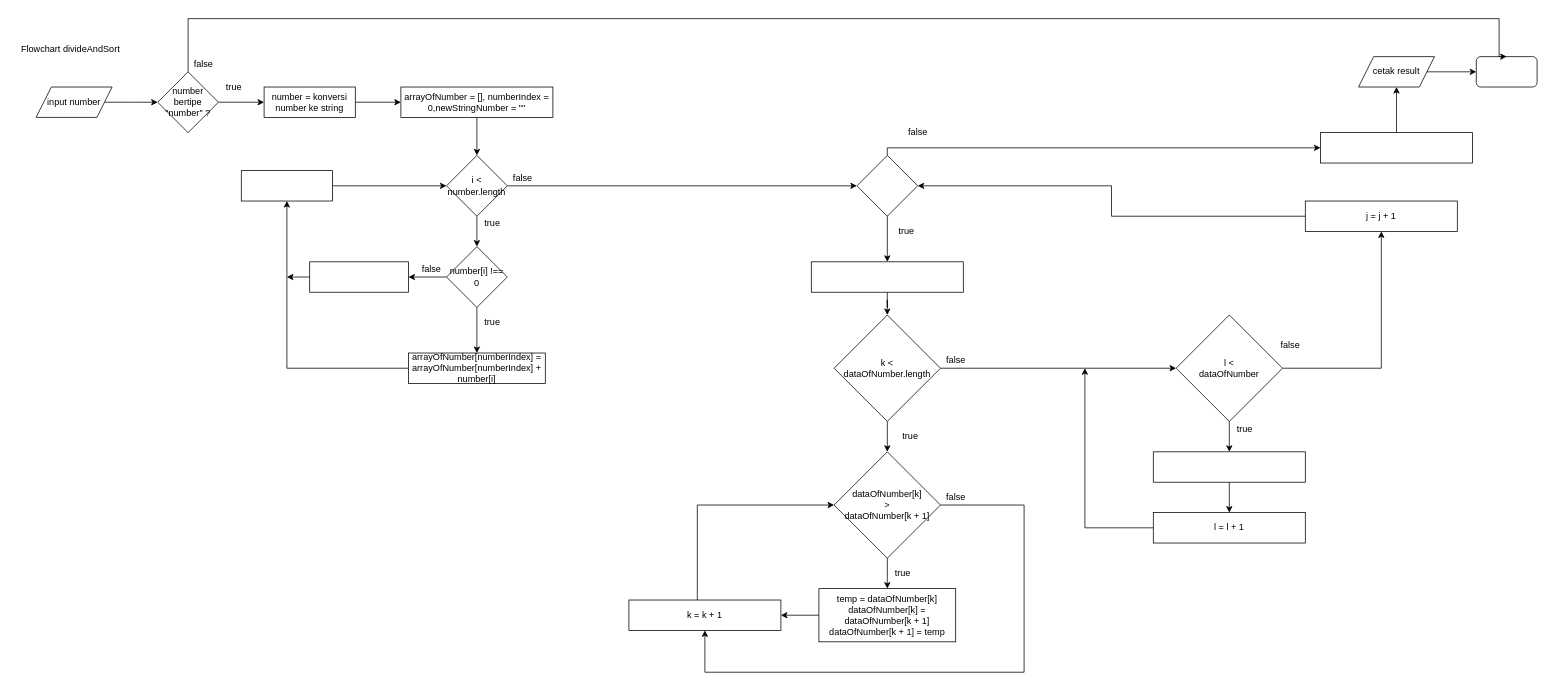
This 1550x692 diagram has some shape labels left out. Here are the shapes that lost their labels. From the top down, the centre of each, then its label:
At point (1506, 71): "selesai".
At point (1396, 147): "result = konversi newStringNumber ke tipe number".
At point (286, 185): "i = i + 1".
At point (887, 185): "j < arrayOfNumber.length".
At point (358, 276): "numberIndex = numberIndex + 1".
At point (887, 276): "dataOfNumber = panjang arrayOfNumber[j]".
At point (1229, 466): "newStringNumber = newStringNumber + dataOfNumber[l]".
